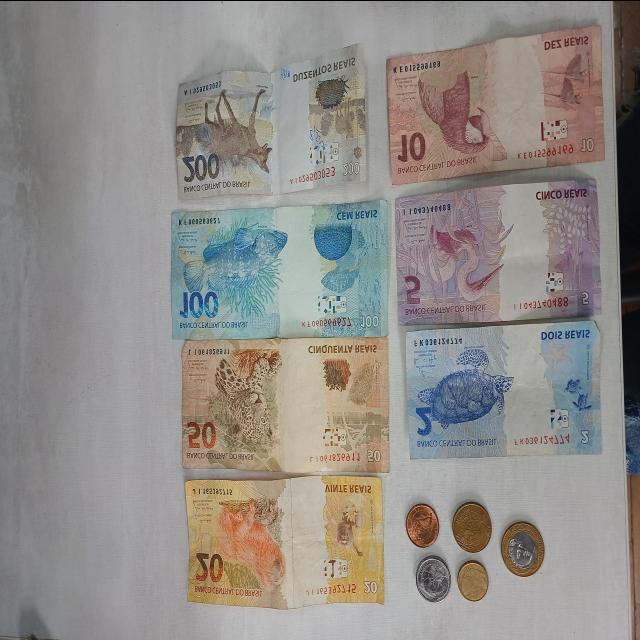1 real: (499, 522, 547, 576)
25 cents: (452, 500, 492, 554)
50 cents: (415, 556, 451, 603)
